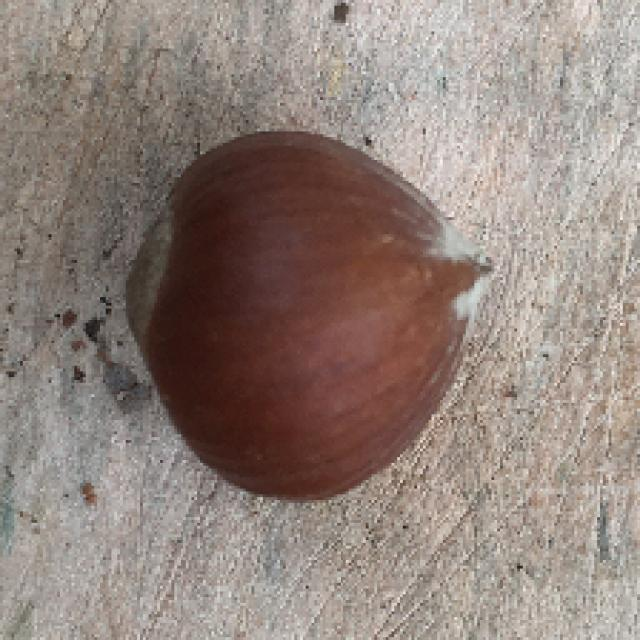qualityHazelnut: (119, 125, 496, 502)
